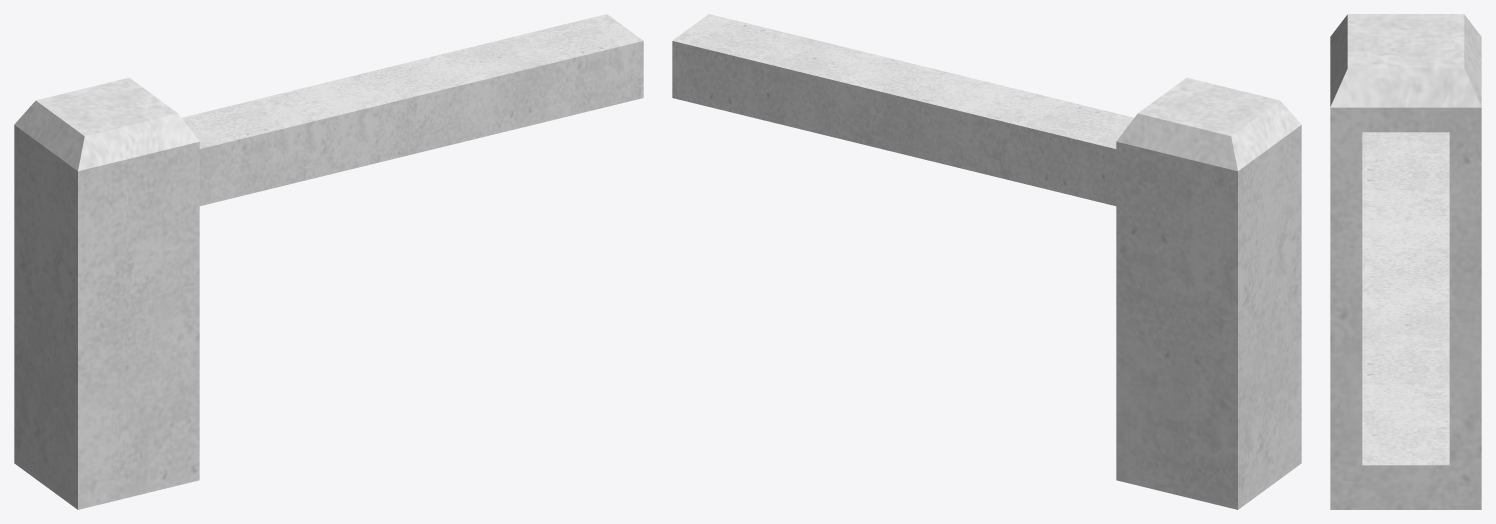
The model's file is Small stone fence.fbx.
3 views of the same model, side by side, from view 1: azimuth 30°, elevation 25°; view 2: azimuth 150°, elevation 25°; view 3: azimuth 270°, elevation 25° (orthographic). The views are drawn at different scales.
Parts seen in each view (by area): view 1: Fence1:pCube1, Fence1:pCube2; view 2: Fence1:pCube1, Fence1:pCube2; view 3: Fence1:pCube1, Fence1:pCube2.
Boxes of the visible parts, x1,y1,x2,y2 form: Fence1:pCube1: (14,77,199,509); Fence1:pCube2: (182,14,643,205); Fence1:pCube1: (1116,77,1301,509); Fence1:pCube2: (672,14,1133,205); Fence1:pCube1: (1330,14,1481,509); Fence1:pCube2: (1362,132,1449,465).
Size of the model in its own units: 8.03 by 4.83 by 1.53.
2 materials, 2 textured.
